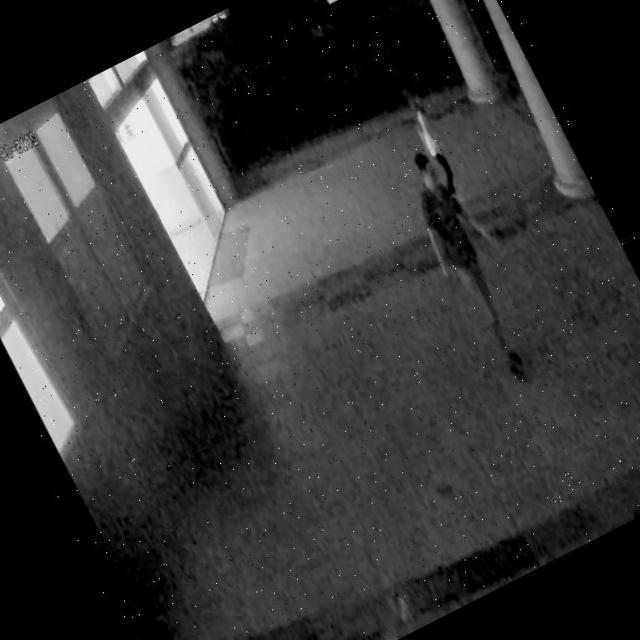person: (384, 139, 563, 406), (392, 78, 474, 202)
